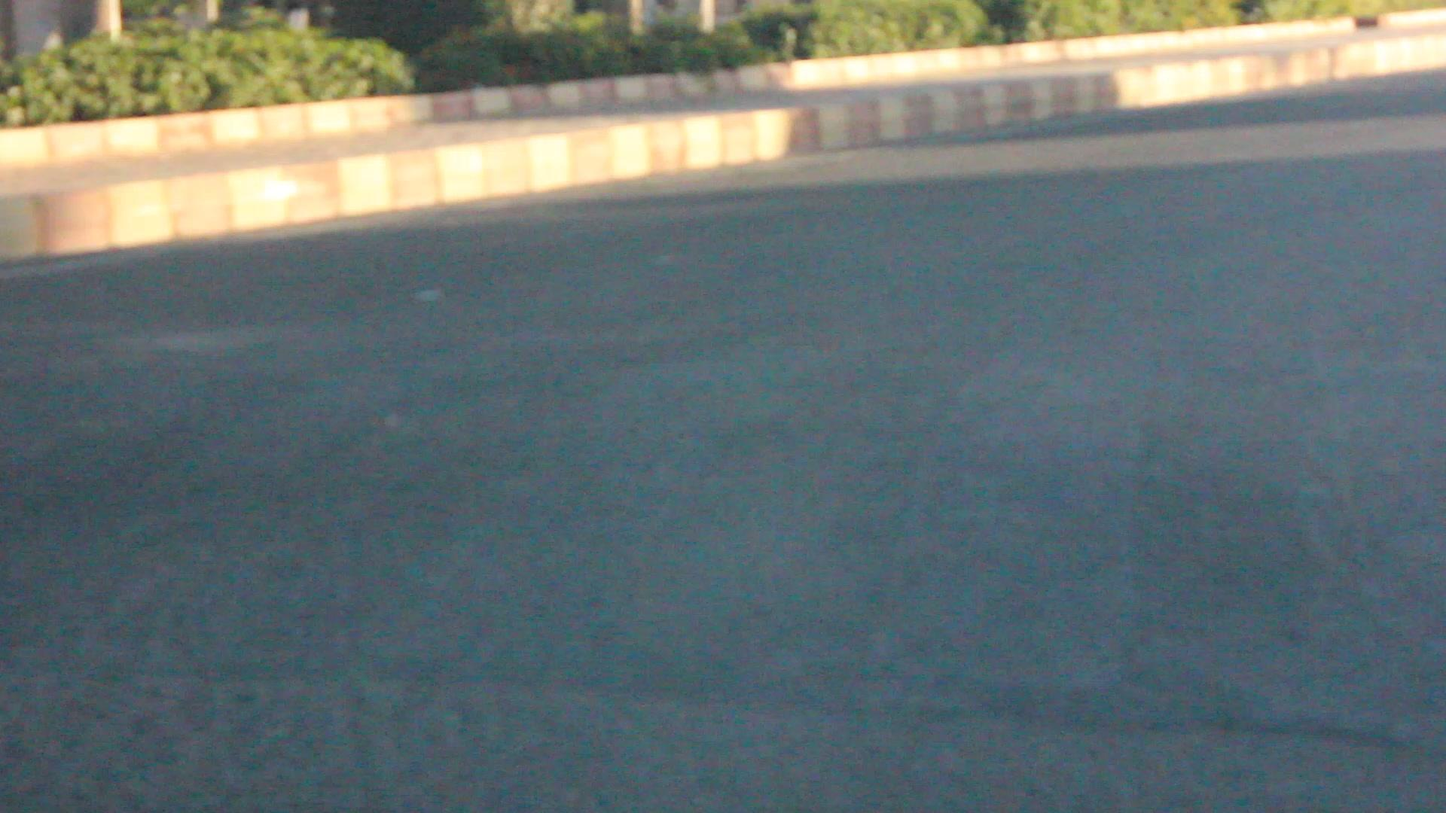Bump: (0, 302, 1445, 755)
